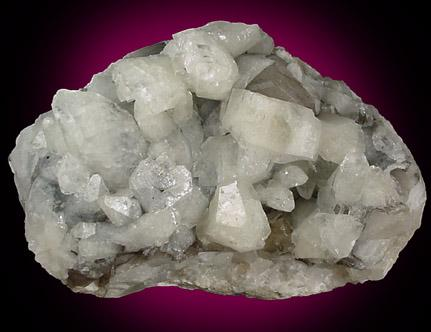calcite: (8, 21, 427, 300)
